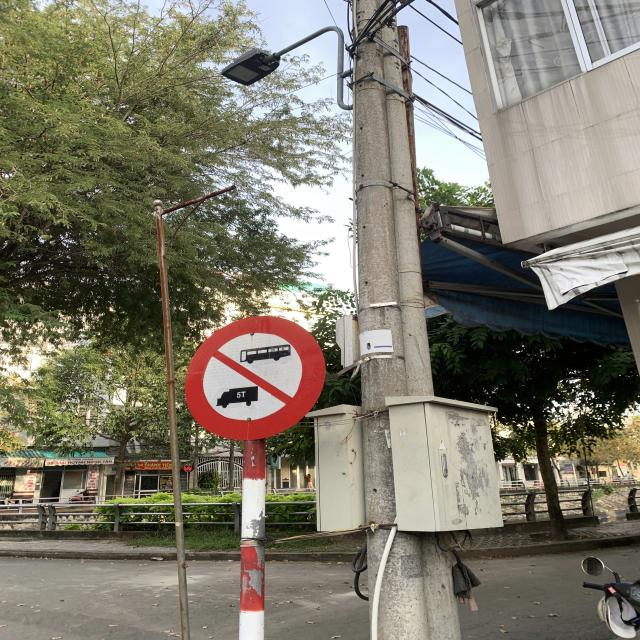Cam_XeTai_XeKhach: (188, 314, 326, 438)
